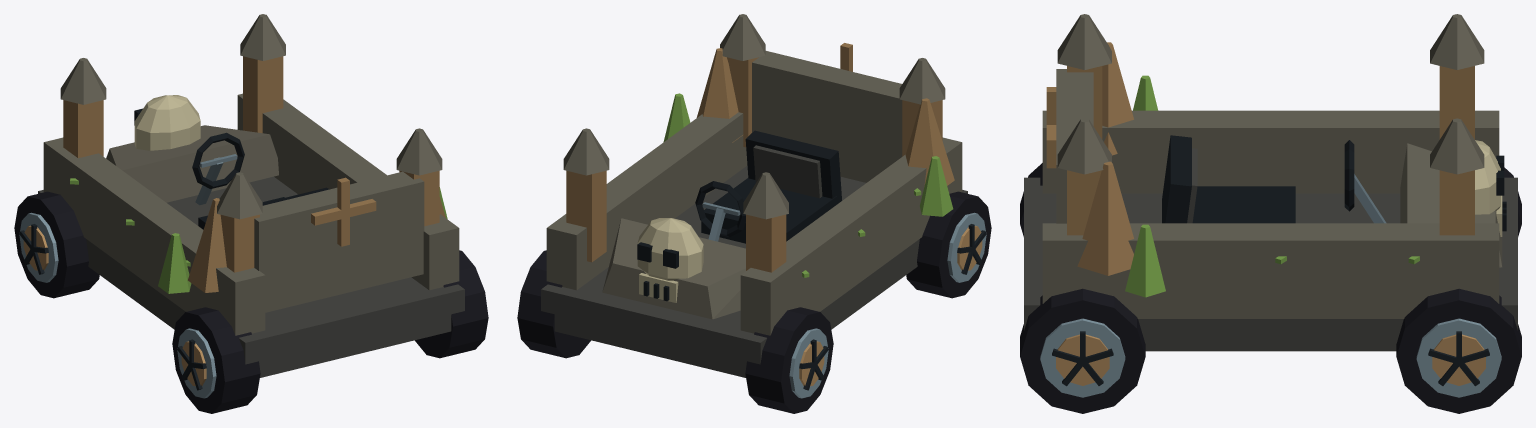
Rendered from kart.glb.
The picture shows the model from 3 angles, left to right: view 1: azimuth 30°, elevation 25°; view 2: azimuth 150°, elevation 25°; view 3: azimuth 270°, elevation 25°; orthographic projection. The views are drawn at different scales.
Visible parts, largest first — view 1: identity-reliquary-reliquary-arched-stone-chest, wheel-rear-left, wheel-front-left, identity-reliquary-motif-crystals, wheel-rear-right, identity-reliquary-motif-skull, identity-reliquary-driver-cockpit; view 2: identity-reliquary-reliquary-arched-stone-chest, identity-reliquary-driver-cockpit, wheel-front-left, wheel-rear-left, identity-reliquary-motif-crystals, identity-reliquary-motif-skull, wheel-front-right; view 3: identity-reliquary-reliquary-arched-stone-chest, wheel-front-right, wheel-rear-right, identity-reliquary-motif-crystals, identity-reliquary-driver-cockpit, identity-reliquary-motif-skull.
Boxes of the visible parts, bbox=[...] form: identity-reliquary-reliquary-arched-stone-chest: bbox=[38, 14, 464, 377]; wheel-rear-left: bbox=[172, 307, 260, 413]; wheel-front-left: bbox=[14, 191, 99, 298]; identity-reliquary-motif-crystals: bbox=[158, 187, 447, 293]; wheel-rear-right: bbox=[415, 250, 488, 358]; identity-reliquary-motif-skull: bbox=[134, 95, 200, 150]; identity-reliquary-driver-cockpit: bbox=[192, 132, 329, 229]; identity-reliquary-reliquary-arched-stone-chest: bbox=[541, 14, 967, 377]; identity-reliquary-driver-cockpit: bbox=[695, 130, 841, 243]; wheel-front-left: bbox=[745, 307, 833, 413]; wheel-rear-left: bbox=[906, 191, 991, 298]; identity-reliquary-motif-crystals: bbox=[663, 48, 954, 216]; identity-reliquary-motif-skull: bbox=[637, 218, 703, 302]; wheel-front-right: bbox=[517, 250, 590, 358]; identity-reliquary-reliquary-arched-stone-chest: bbox=[1024, 14, 1517, 351]; wheel-front-right: bbox=[1396, 288, 1521, 413]; wheel-rear-right: bbox=[1020, 288, 1145, 413]; identity-reliquary-motif-crystals: bbox=[1077, 42, 1165, 297]; identity-reliquary-driver-cockpit: bbox=[1162, 135, 1386, 223]; identity-reliquary-motif-skull: bbox=[1475, 140, 1506, 236].
Size of the model in its own units: 2 by 1.51 by 2.56.
